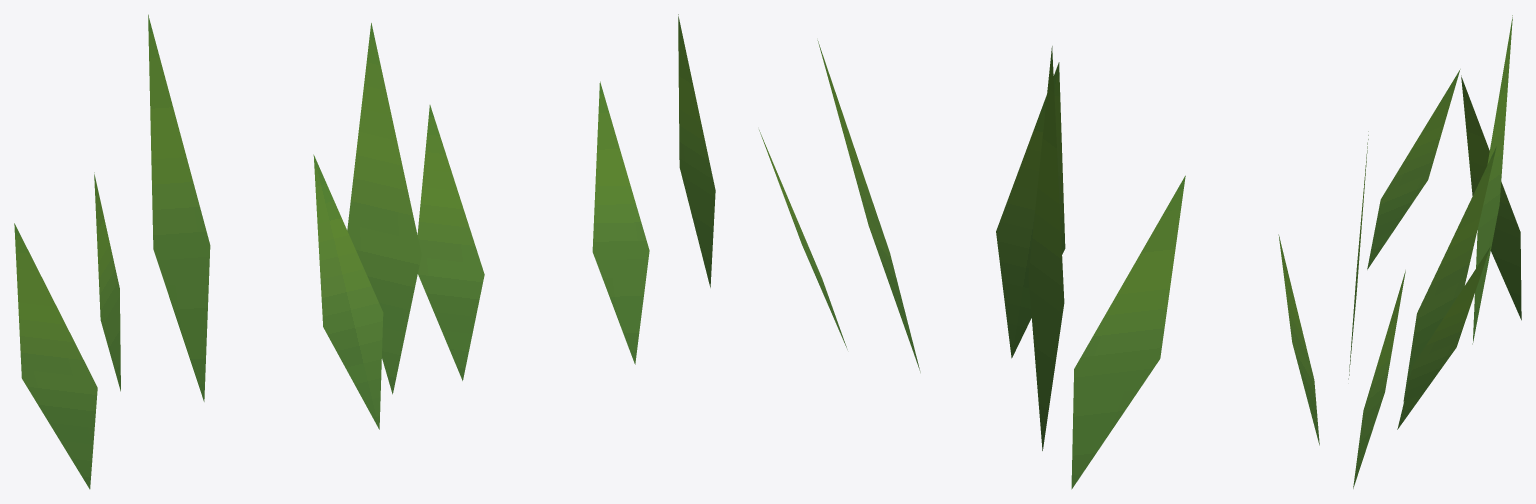
Rendered from plants_me_dlc2_main_grass512.gltf.
3 renders of one model, left to right at view 1: azimuth 30°, elevation 25°; view 2: azimuth 150°, elevation 25°; view 3: azimuth 270°, elevation 25°, orthographic. The views are drawn at different scales.
Visible parts, largest first — view 1: um_plants_me_dlc2_main_grass512_model_plants_me_dlc2_main_gr; view 2: um_plants_me_dlc2_main_grass512_model_plants_me_dlc2_main_gr; view 3: um_plants_me_dlc2_main_grass512_model_plants_me_dlc2_main_gr.
Boxes of the visible parts, x1,y1,x2,y2 form: um_plants_me_dlc2_main_grass512_model_plants_me_dlc2_main_gr: [14, 14, 649, 489]; um_plants_me_dlc2_main_grass512_model_plants_me_dlc2_main_gr: [678, 14, 1319, 489]; um_plants_me_dlc2_main_grass512_model_plants_me_dlc2_main_gr: [1348, 15, 1521, 488].
Size of the model in its own units: 0.5503 by 0.3383 by 0.1672.
1 material, 1 textured.
